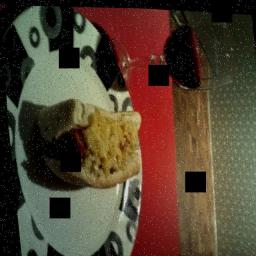hotdog: (58, 127, 86, 158)
